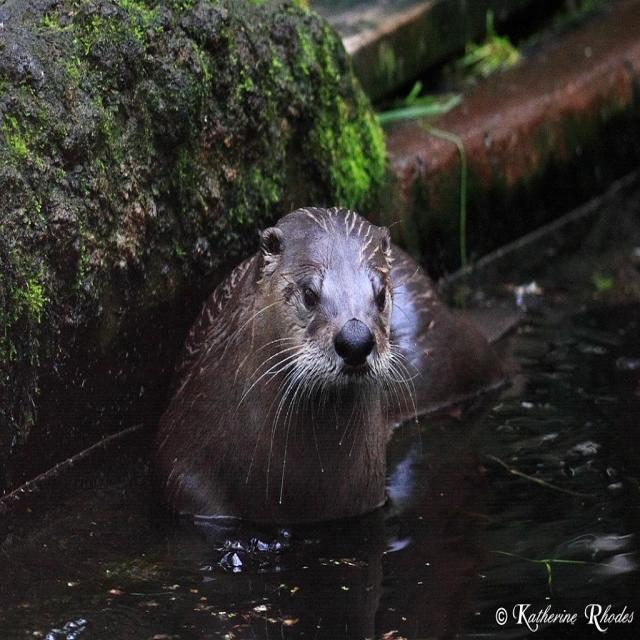otter: (169, 211, 395, 510)
